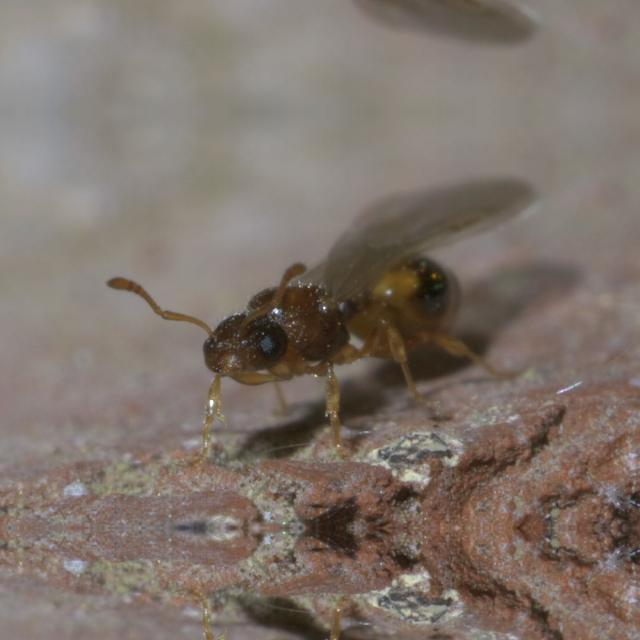Temnothorax: (151, 166, 521, 436), (151, 0, 521, 56)
